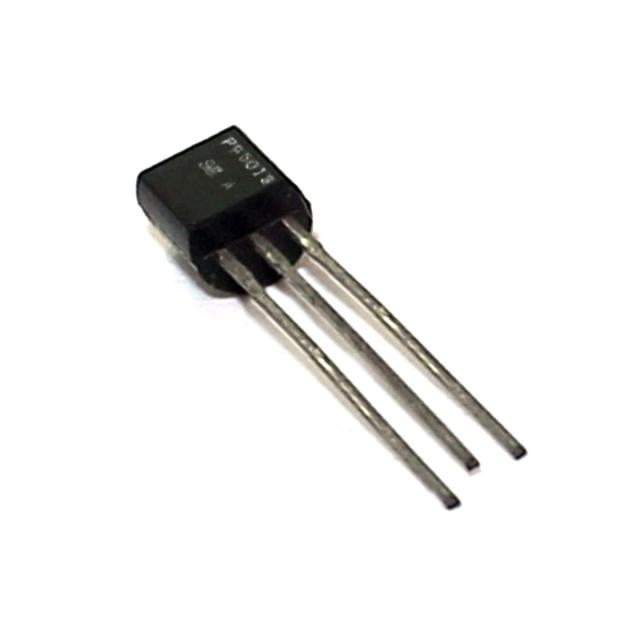Resistor: (324, 479, 325, 479)
Transistor: (140, 124, 528, 513)
